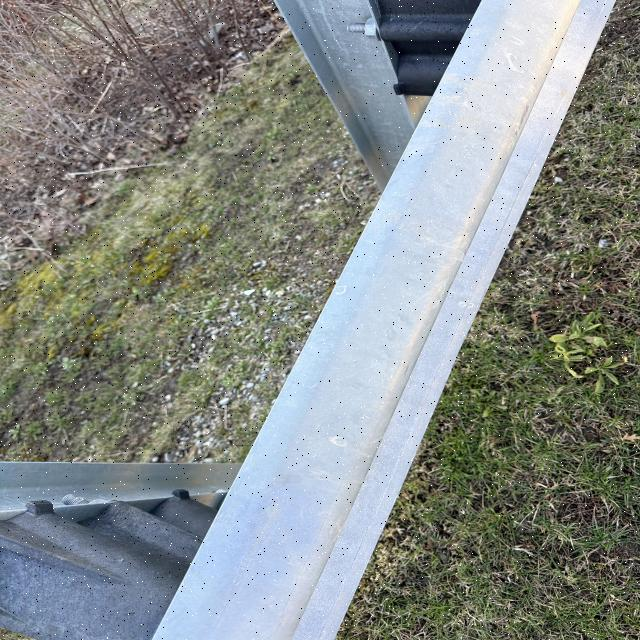Guard rail: (29, 6, 623, 525), (4, 488, 238, 637)
